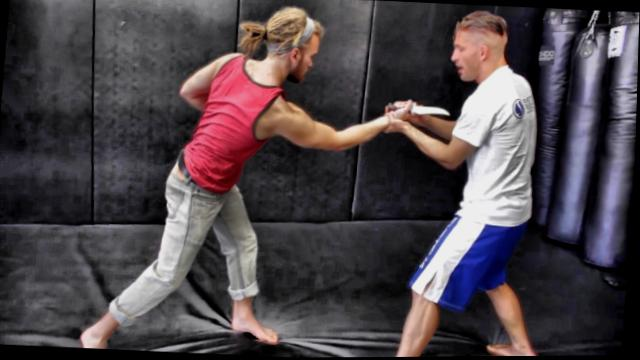knife: (383, 95, 455, 122)
